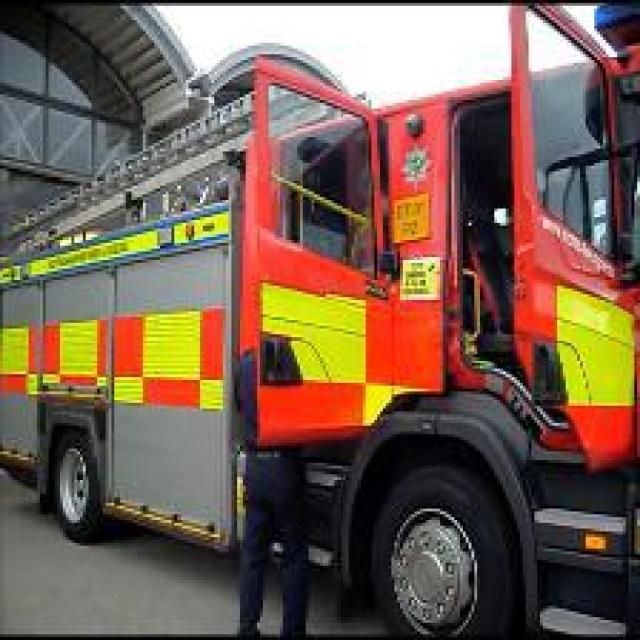other: (226, 241, 422, 429), (0, 288, 223, 412), (518, 226, 634, 460)
